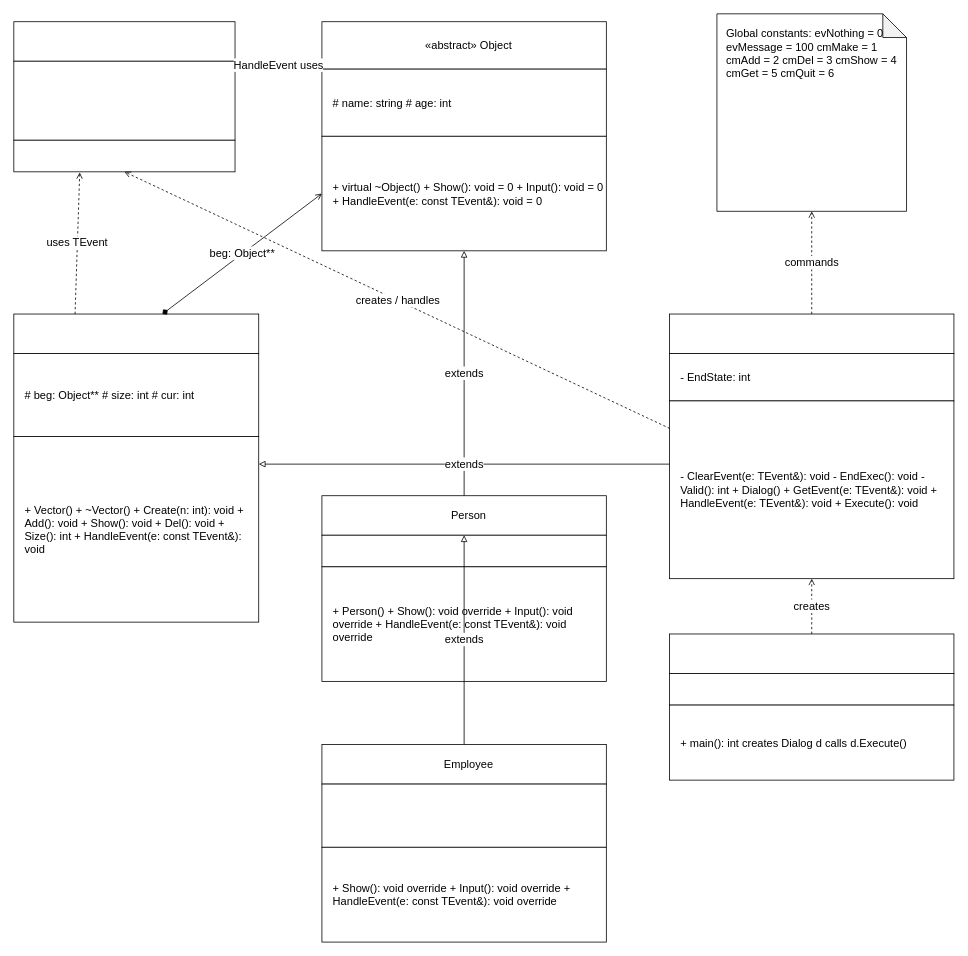
The diagram is 968 pixels wide and 956 high, and some of its shapes have lost their labels. Each missing label, with the box of its shape:
+ what: int + command: int + a: int: (13, 60, 235, 140)
- salary: float - position: string: (321, 783, 606, 847)
Dialog: (669, 313, 954, 354)
Global functions: (669, 633, 954, 673)
Vector: (13, 313, 259, 354)
«struct» TEvent: (13, 21, 235, 61)
